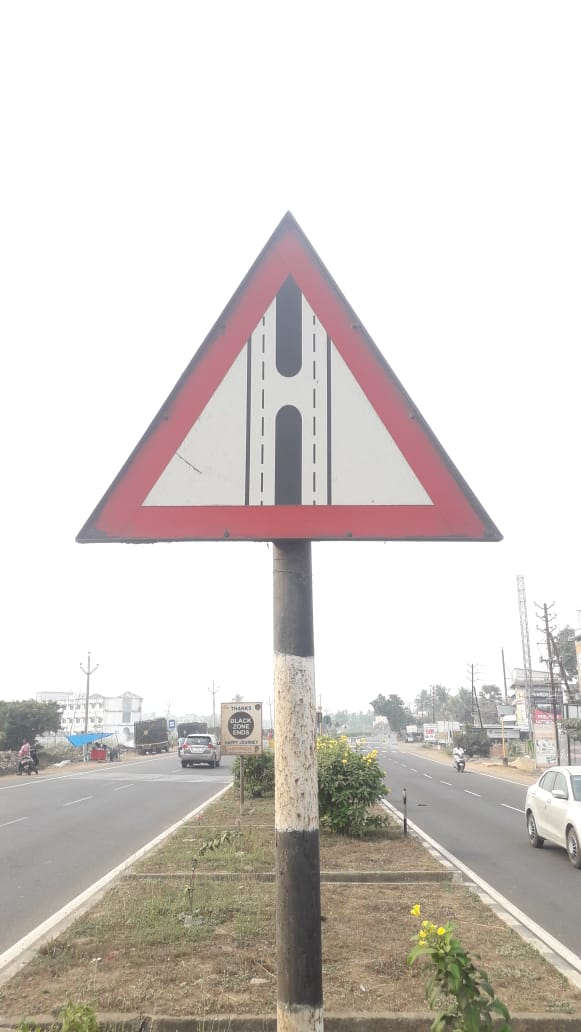highway go straight: (91, 193, 534, 602)
